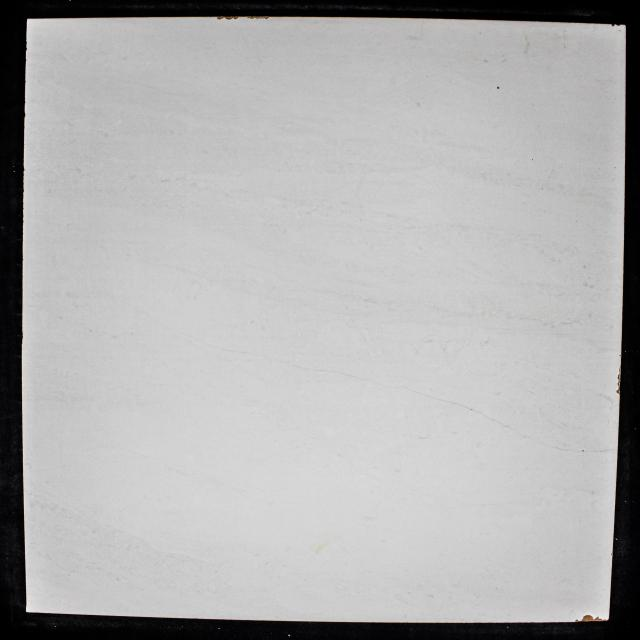edge-chipping: (575, 614, 606, 622), (616, 365, 622, 395), (245, 16, 270, 20), (216, 16, 239, 20), (610, 24, 622, 27)
hole: (496, 86, 500, 90)
line: (408, 389, 525, 436), (200, 342, 300, 367), (301, 368, 405, 389), (527, 435, 613, 452)
